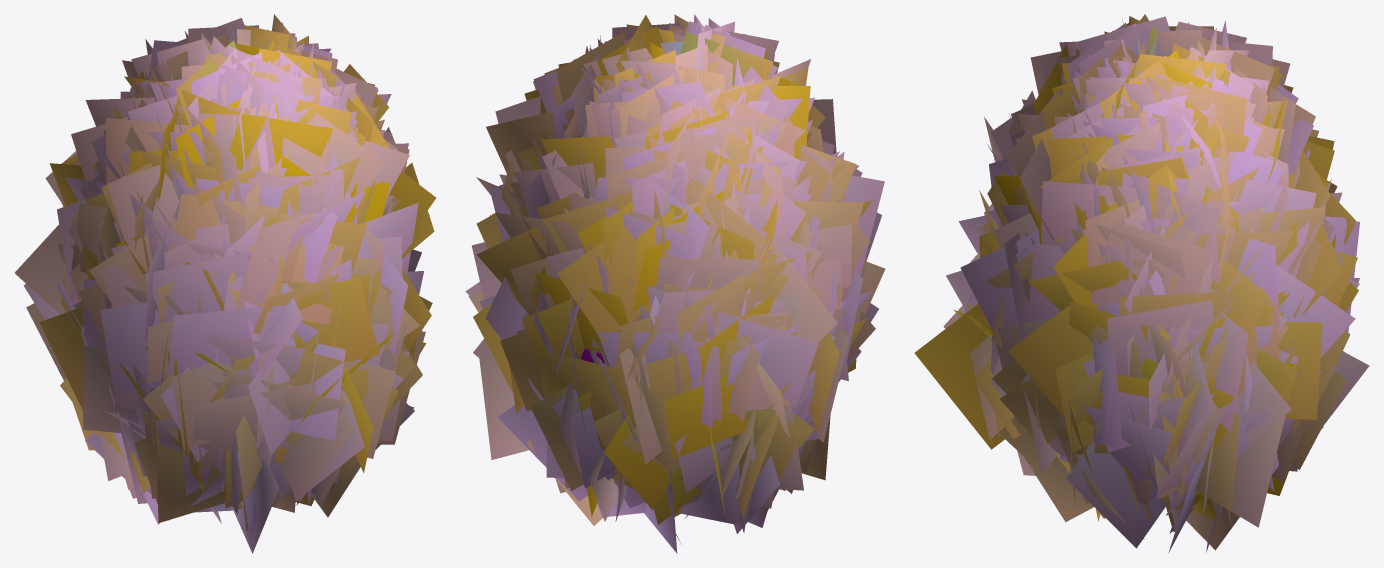
Rendered from thuja_oval.glb.
The picture shows the model from 3 angles, left to right: view 1: azimuth 30°, elevation 25°; view 2: azimuth 150°, elevation 25°; view 3: azimuth 270°, elevation 25°; orthographic projection. The views are drawn at different scales.
Parts seen in each view (by area): view 1: thuja_oval; view 2: thuja_oval; view 3: thuja_oval.
Boxes of the visible parts, x1,y1,x2,y2 form: thuja_oval: (15,14,436,553); thuja_oval: (465,14,885,553); thuja_oval: (914,14,1369,552).
Bounding box in the file's own units: 3.31 × 4.11 × 3.42.
